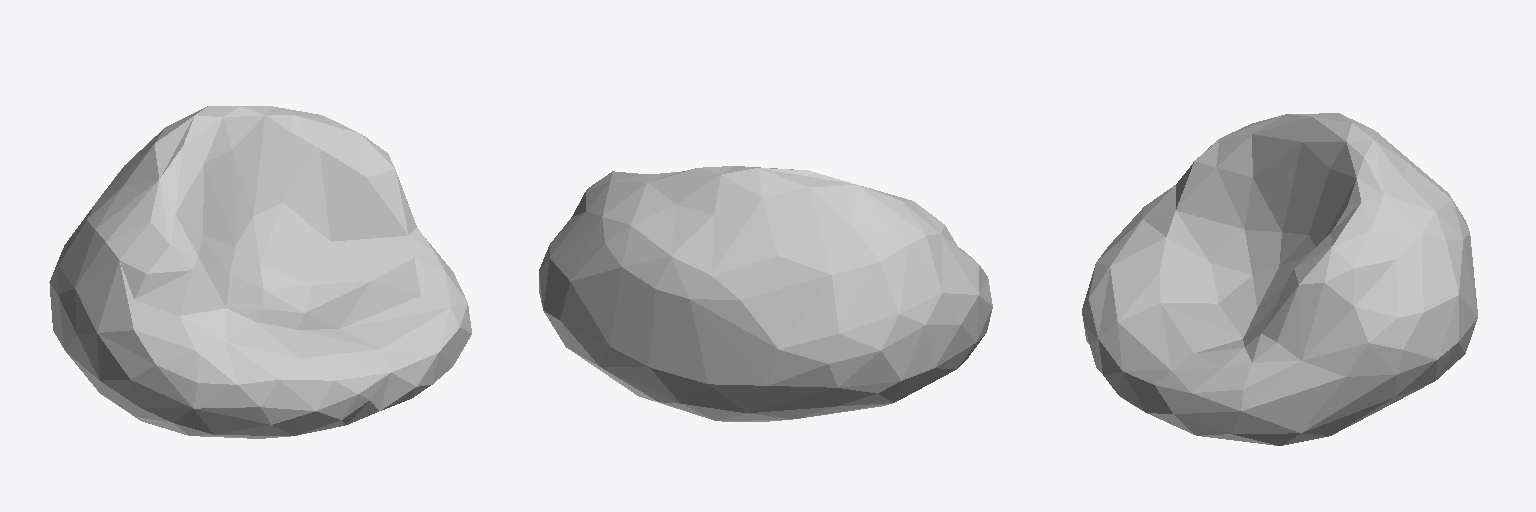
Rendered from beanbag.obj.
3 renders of one model, left to right at view 1: azimuth 30°, elevation 25°; view 2: azimuth 150°, elevation 25°; view 3: azimuth 270°, elevation 25°, orthographic.
Visible parts, largest first — view 1: Sphere; view 2: Sphere; view 3: Sphere.
Part boxes in pixels (x1,y1,x2,y2): Sphere: (49, 106, 471, 438); Sphere: (539, 166, 992, 421); Sphere: (1082, 113, 1477, 445).
Size of the model in its own units: 0.9051 by 0.5605 by 0.8354.